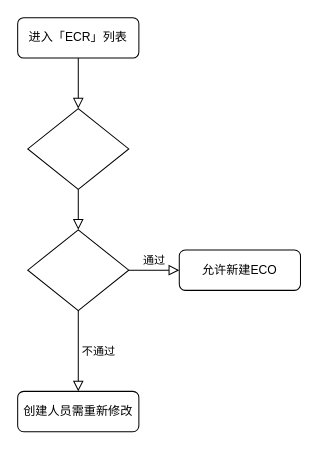
Image size: 318x449. Some labels were removed from this diagram. The centre of each missing label's shape, as x and y in pixels:
审批: (78,270)
查看详情: (78,148)
